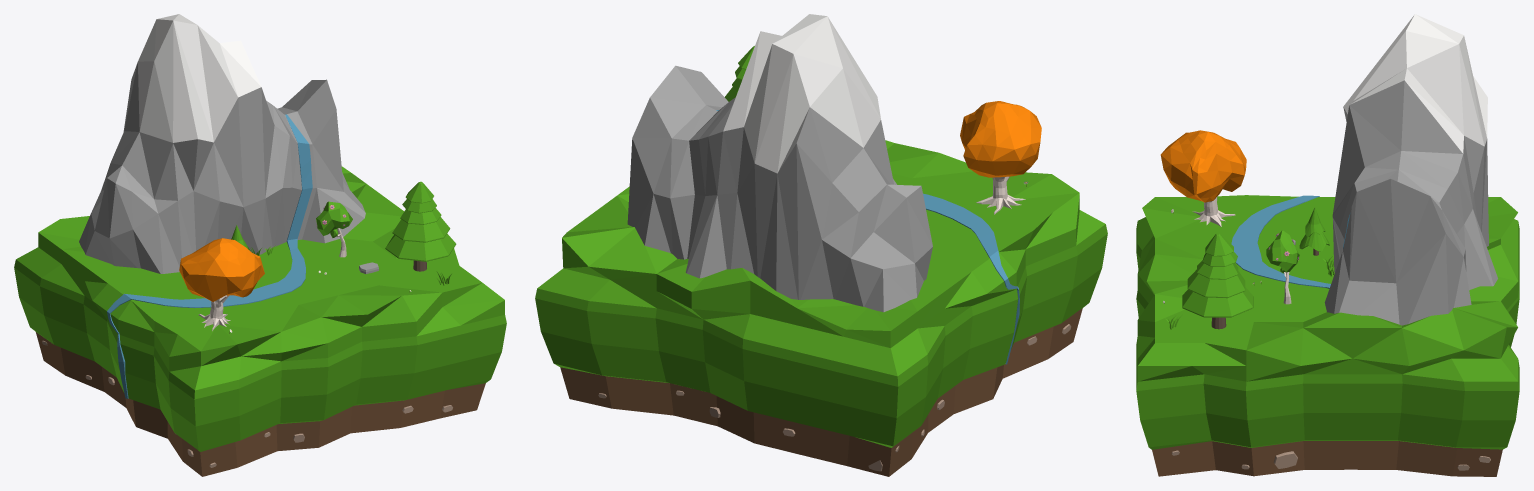
File: Island_16.fbx
3 renders of one model, left to right at view 1: azimuth 30°, elevation 25°; view 2: azimuth 150°, elevation 25°; view 3: azimuth 270°, elevation 25°, orthographic. The views are drawn at different scales.
Visible parts, largest first — view 1: Isl16_Base, Isl16_Tree_2, Isl16_Tree_1, Isl16_Cherry_Tree_2; view 2: Isl16_Base, Isl16_Tree_2; view 3: Isl16_Base, Isl16_Tree_2, Isl16_Tree_1, Isl16_Cherry_Tree_2, Isl16_Tree_3.
Part boxes in pixels (x1,y1,x2,y2): Isl16_Base: [14, 14, 506, 476]; Isl16_Tree_2: [179, 238, 264, 330]; Isl16_Tree_1: [385, 181, 456, 271]; Isl16_Cherry_Tree_2: [316, 201, 352, 257]; Isl16_Base: [535, 14, 1107, 476]; Isl16_Tree_2: [960, 101, 1041, 214]; Isl16_Base: [1136, 14, 1519, 476]; Isl16_Tree_2: [1160, 130, 1246, 226]; Isl16_Tree_1: [1182, 233, 1253, 329]; Isl16_Cherry_Tree_2: [1266, 230, 1299, 304]; Isl16_Tree_3: [1299, 207, 1329, 255].
Bounding box in the file's own units: 2221 × 2218 × 2348.
